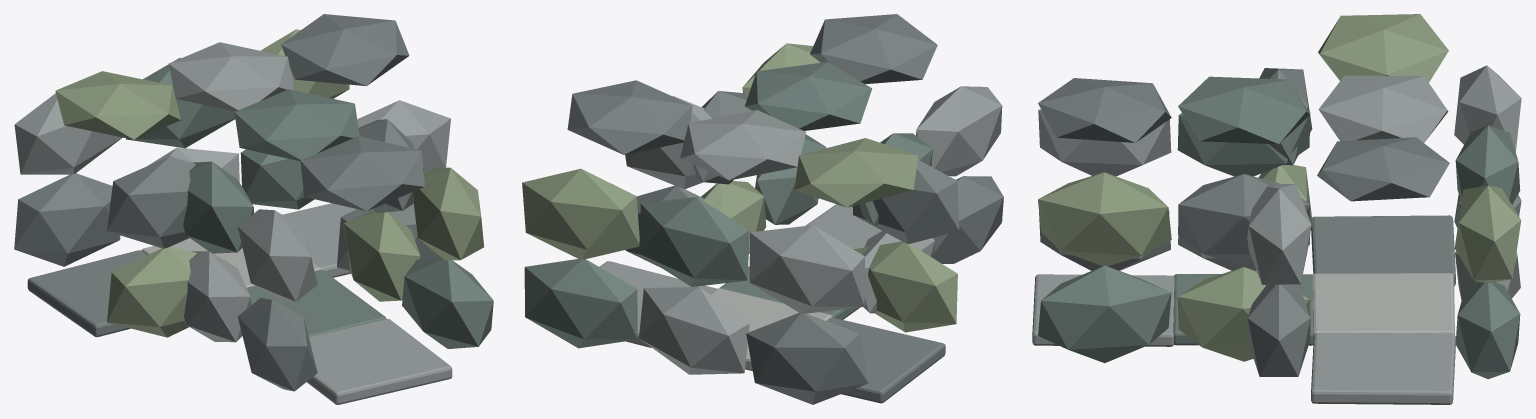
Rendered from tunnel_t_junction_6x6x3p5.glb.
3 renders of one model, left to right at view 1: azimuth 30°, elevation 25°; view 2: azimuth 150°, elevation 25°; view 3: azimuth 270°, elevation 25°, orthographic. The views are drawn at different scales.
Visible parts, largest first — view 1: tunnel_junction_floor_01, tunnel_junction_wall_05, tunnel_junction_ceiling_05, tunnel_junction_ceiling_01, tunnel_junction_ceiling_02, tunnel_junction_ceiling_03, tunnel_junction_wall_03, tunnel_junction_ceiling_04, tunnel_junction_wall_08, tunnel_junction_wall_17, tunnel_junction_wall_10, tunnel_junction_wall_01 (+16 smaller); view 2: tunnel_junction_wall_14, tunnel_junction_wall_05, tunnel_junction_wall_16, tunnel_junction_wall_07, tunnel_junction_wall_15, tunnel_junction_wall_06, tunnel_junction_ceiling_05, tunnel_junction_ceiling_01, tunnel_junction_ceiling_03, tunnel_junction_ceiling_02, tunnel_junction_wall_08, tunnel_junction_ceiling_04 (+16 smaller); view 3: tunnel_junction_floor_05, tunnel_junction_wall_03, tunnel_junction_wall_12, tunnel_junction_floor_03, tunnel_junction_floor_04, tunnel_junction_ceiling_02, tunnel_junction_ceiling_03, tunnel_junction_ceiling_04, tunnel_junction_ceiling_01, tunnel_junction_ceiling_05, tunnel_junction_wall_13, tunnel_junction_wall_04 (+15 smaller).
Boxes of the visible parts, x1=… form: tunnel_junction_floor_01: x1=307, y1=319, x2=452, y2=404; tunnel_junction_wall_05: x1=14, y1=173, x2=120, y2=266; tunnel_junction_ceiling_05: x1=281, y1=14, x2=409, y2=86; tunnel_junction_ceiling_01: x1=300, y1=136, x2=424, y2=211; tunnel_junction_ceiling_02: x1=234, y1=89, x2=359, y2=161; tunnel_junction_ceiling_03: x1=168, y1=42, x2=294, y2=111; tunnel_junction_wall_03: x1=402, y1=257, x2=493, y2=348; tunnel_junction_ceiling_04: x1=55, y1=71, x2=180, y2=139; tunnel_junction_wall_08: x1=107, y1=246, x2=227, y2=337; tunnel_junction_wall_17: x1=107, y1=156, x2=196, y2=248; tunnel_junction_wall_10: x1=237, y1=209, x2=317, y2=301; tunnel_junction_wall_01: x1=237, y1=298, x2=317, y2=391; tunnel_junction_wall_14: x1=749, y1=225, x2=864, y2=313; tunnel_junction_wall_05: x1=746, y1=313, x2=868, y2=404; tunnel_junction_wall_16: x1=522, y1=168, x2=639, y2=259; tunnel_junction_wall_07: x1=524, y1=259, x2=637, y2=348; tunnel_junction_wall_15: x1=639, y1=197, x2=749, y2=286; tunnel_junction_wall_06: x1=639, y1=286, x2=749, y2=374; tunnel_junction_ceiling_05: x1=567, y1=80, x2=692, y2=154; tunnel_junction_ceiling_01: x1=810, y1=14, x2=937, y2=84; tunnel_junction_ceiling_03: x1=680, y1=110, x2=806, y2=180; tunnel_junction_ceiling_02: x1=745, y1=62, x2=872, y2=130; tunnel_junction_wall_08: x1=854, y1=241, x2=957, y2=332; tunnel_junction_ceiling_04: x1=794, y1=138, x2=918, y2=207; tunnel_junction_floor_05: x1=1311, y1=332, x2=1455, y2=404; tunnel_junction_wall_03: x1=1038, y1=265, x2=1171, y2=363; tunnel_junction_wall_12: x1=1038, y1=172, x2=1171, y2=266; tunnel_junction_floor_03: x1=1313, y1=273, x2=1454, y2=335; tunnel_junction_floor_04: x1=1311, y1=215, x2=1455, y2=285; tunnel_junction_ceiling_02: x1=1178, y1=76, x2=1309, y2=144; tunnel_junction_ceiling_03: x1=1318, y1=75, x2=1448, y2=142; tunnel_junction_ceiling_04: x1=1318, y1=14, x2=1448, y2=82; tunnel_junction_ceiling_01: x1=1038, y1=78, x2=1171, y2=142; tunnel_junction_ceiling_05: x1=1317, y1=137, x2=1449, y2=201; tunnel_junction_wall_13: x1=1178, y1=174, x2=1309, y2=265; tunnel_junction_wall_04: x1=1177, y1=267, x2=1310, y2=361.
Bounding box in the file's own units: 6.08 × 3.66 × 7.02.
